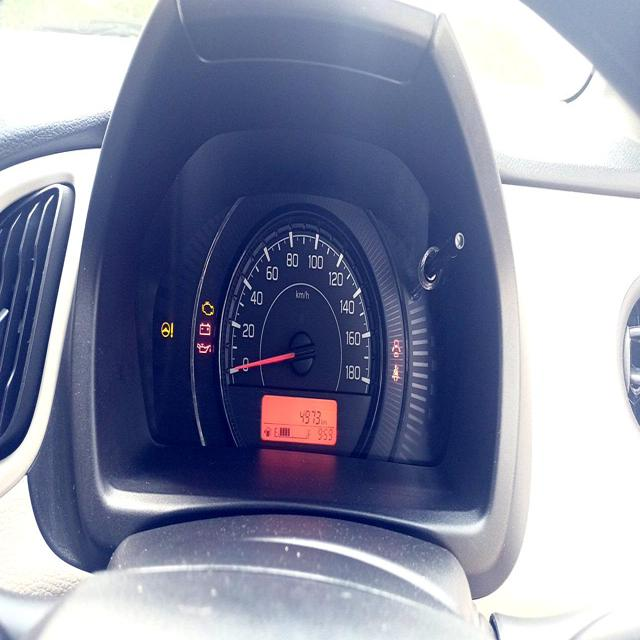odometer: (298, 408, 322, 424)
